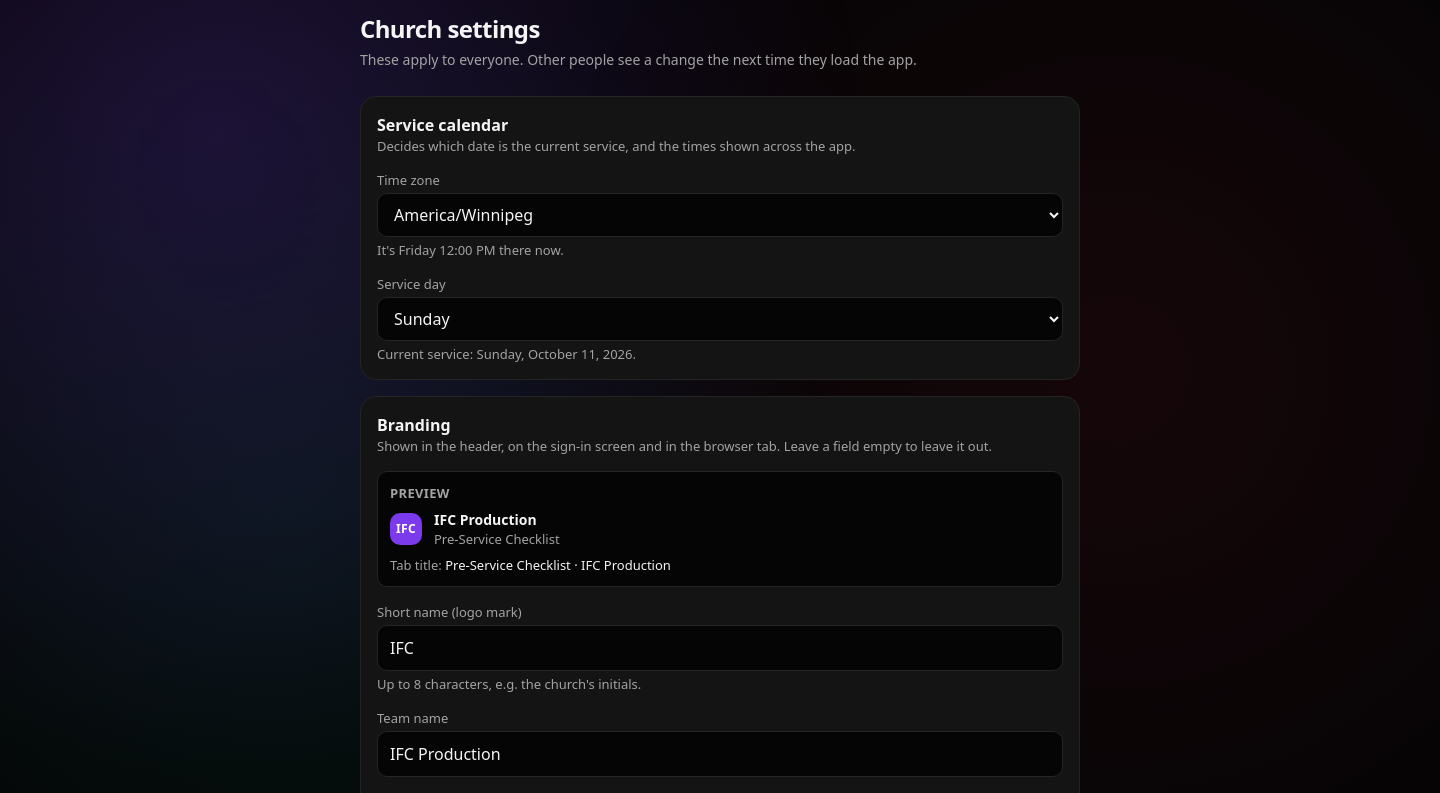
Test: Settings page › confirms before moving the current service, and warns about its check-offs
Expected: the heading "Church settings" is shown, left=360, top=12, right=540, bottom=45
Select "Saturday" in the dropdown labelled "Service day" at (720, 319), box left=377, top=297, right=1063, bottom=341
(page scrolled)
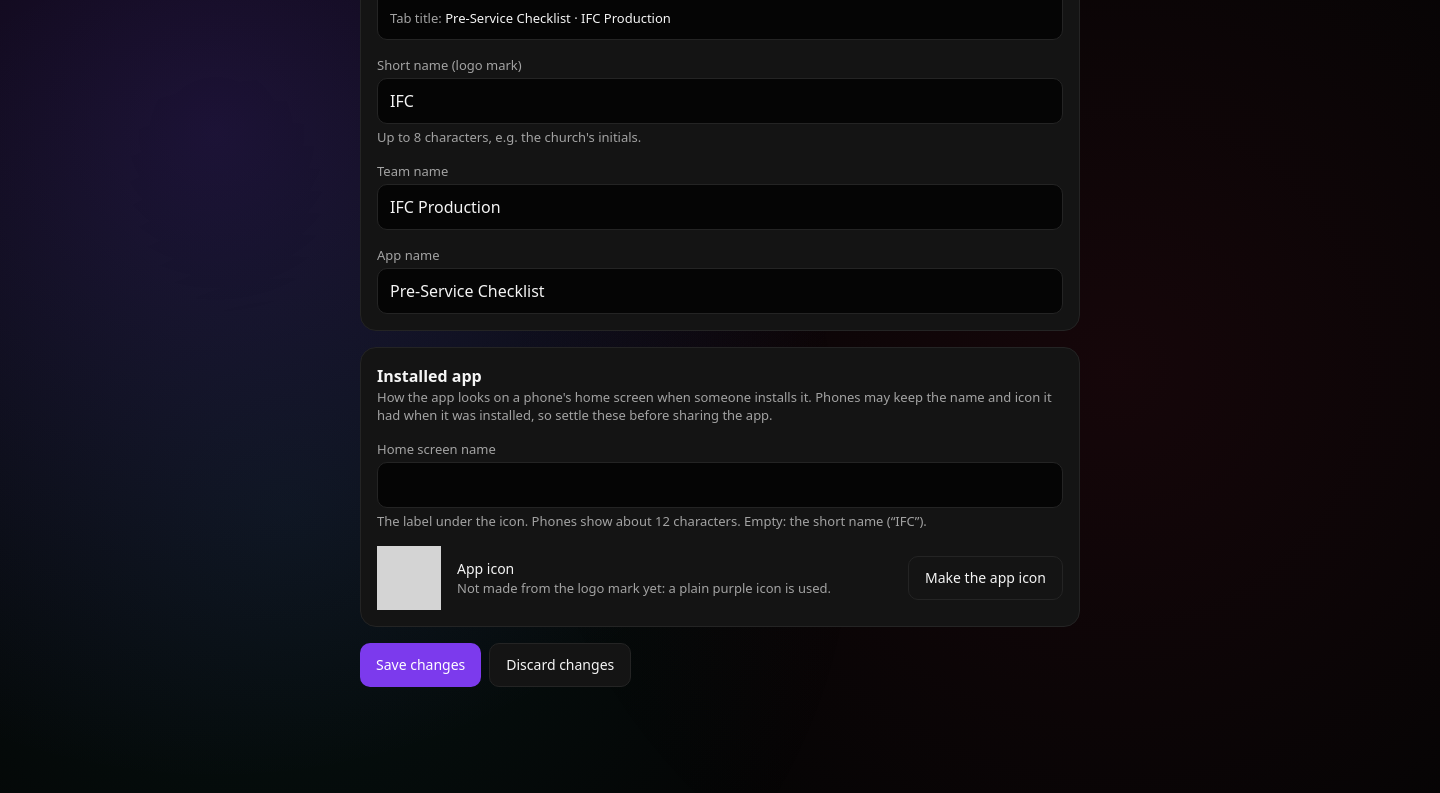
Click the button "Save changes" at (421, 665), box left=360, top=643, right=481, bottom=687
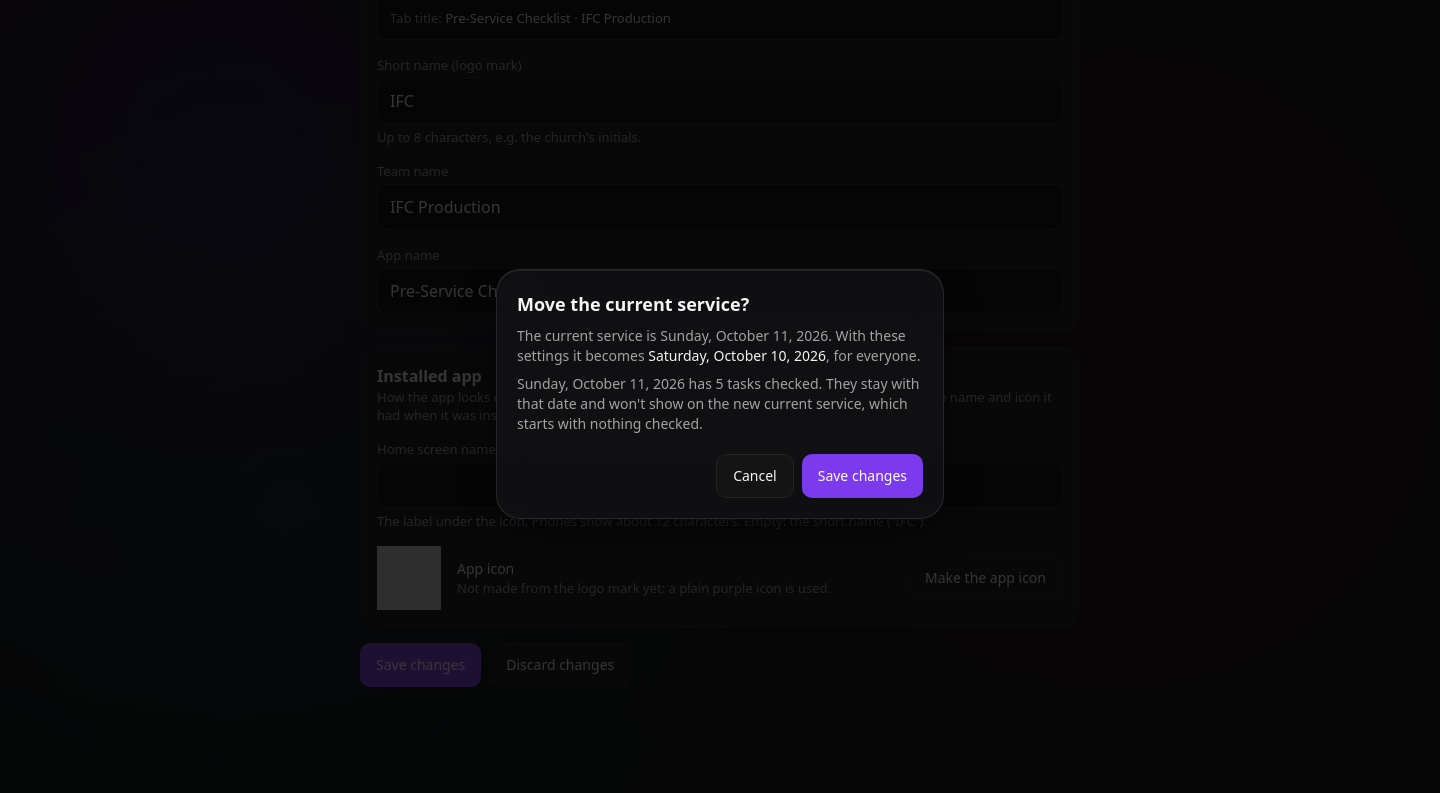
Expected: the dialog "Move the current service?" shows "Sunday, October 11, 2026 has 5 tasks checked. They stay with that date", left=496, top=269, right=944, bottom=519
Click the button "Save changes" at (862, 476), box left=802, top=454, right=923, bottom=498
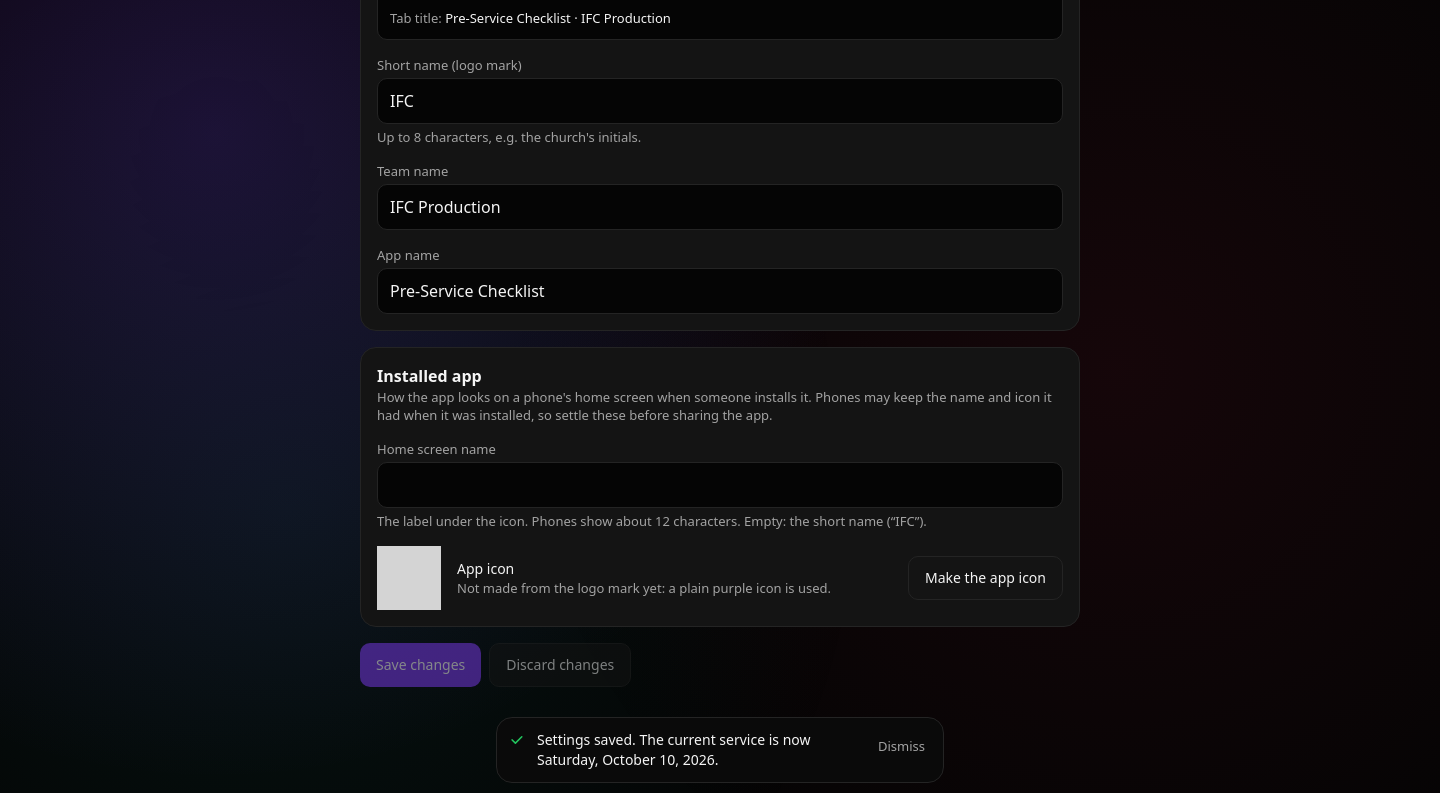
Expected: the text "Settings saved. The current service is now Saturday, October 10, 2026." is shown, left=537, top=730, right=810, bottom=769
